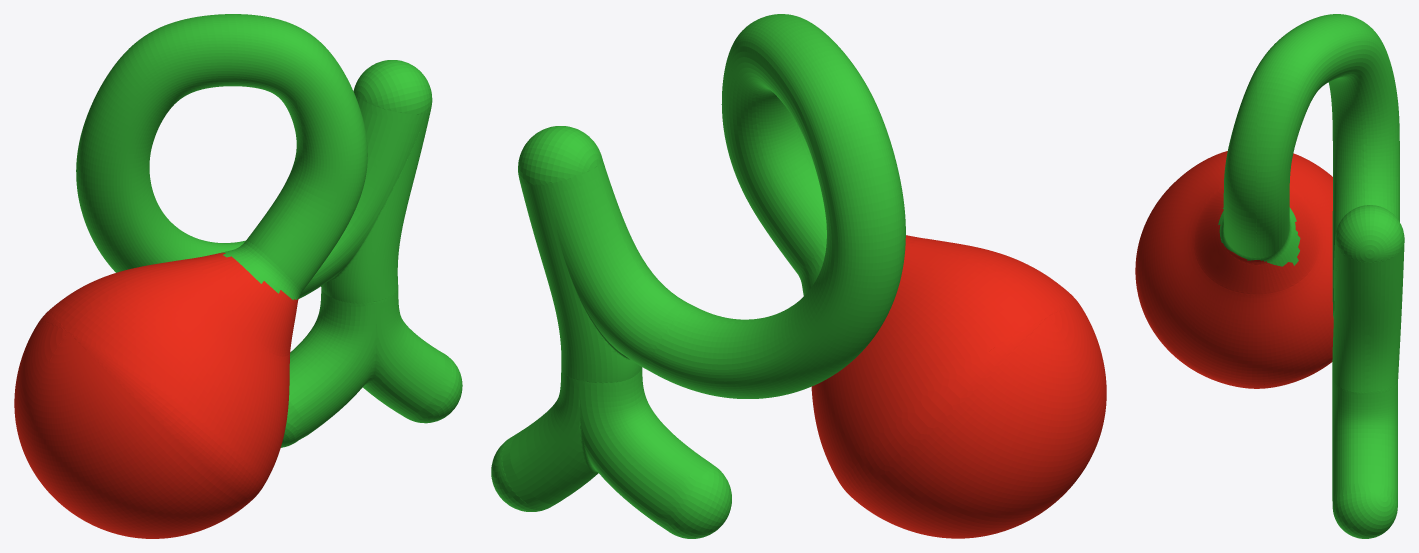
Rendered from cherryBerryColors.fbx.
3 views of the same model, side by side, from view 1: azimuth 30°, elevation 25°; view 2: azimuth 150°, elevation 25°; view 3: azimuth 270°, elevation 25° (orthographic). The views are drawn at different scales.
Visible parts, largest first — view 1: Cheri_Berry_Full_Body; view 2: Cheri_Berry_Full_Body; view 3: Cheri_Berry_Full_Body.
Part boxes in pixels (<box>): Cheri_Berry_Full_Body: <box>14,14,462,538</box>; Cheri_Berry_Full_Body: <box>491,14,1106,538</box>; Cheri_Berry_Full_Body: <box>1135,14,1404,538</box>.
Bounding box in the file's own units: 2257 × 2110 × 1238.
